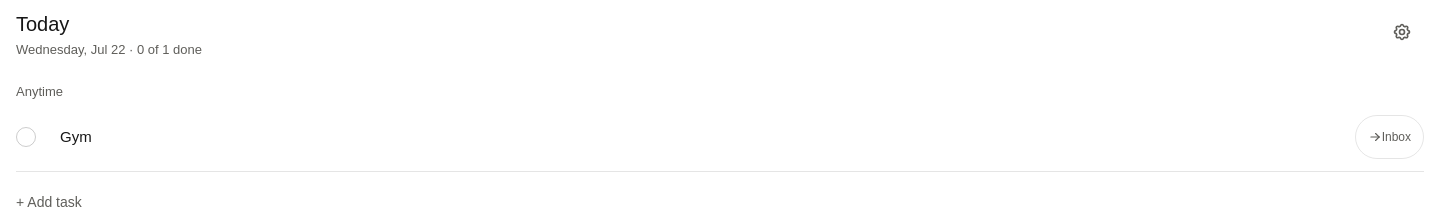
it: TodayScreen › completing a task updates the progress line
The width and height of the screenshot is (1440, 224).
Click the button named "complete".
click(26, 137)  # box [4,115,48,159]
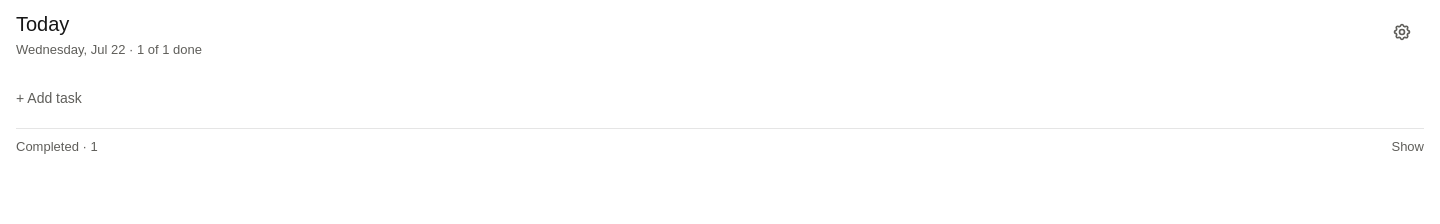
Now the text "Wednesday, Jul 22 · 1 of 1 done" is shown, box [16,40,202,60]
